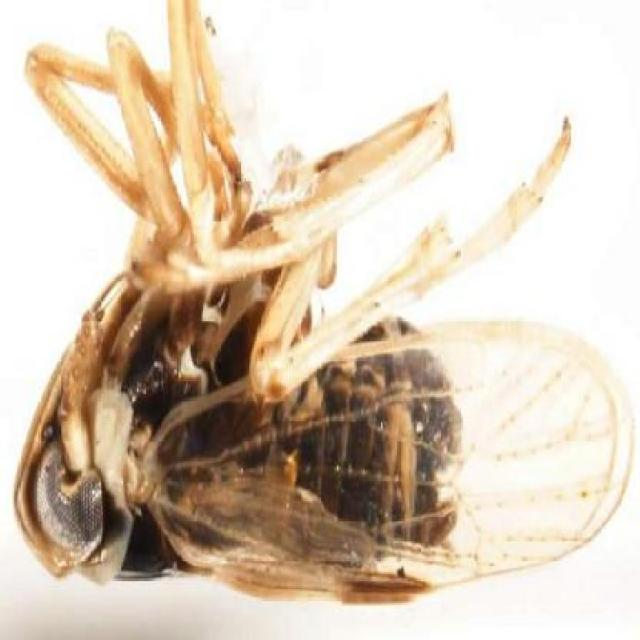brown-planthopper: (15, 224, 634, 602)
